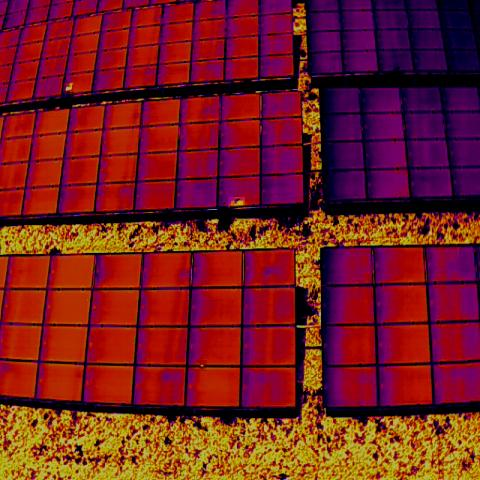fault: (228, 197, 245, 207), (63, 81, 74, 94), (198, 360, 208, 371)
